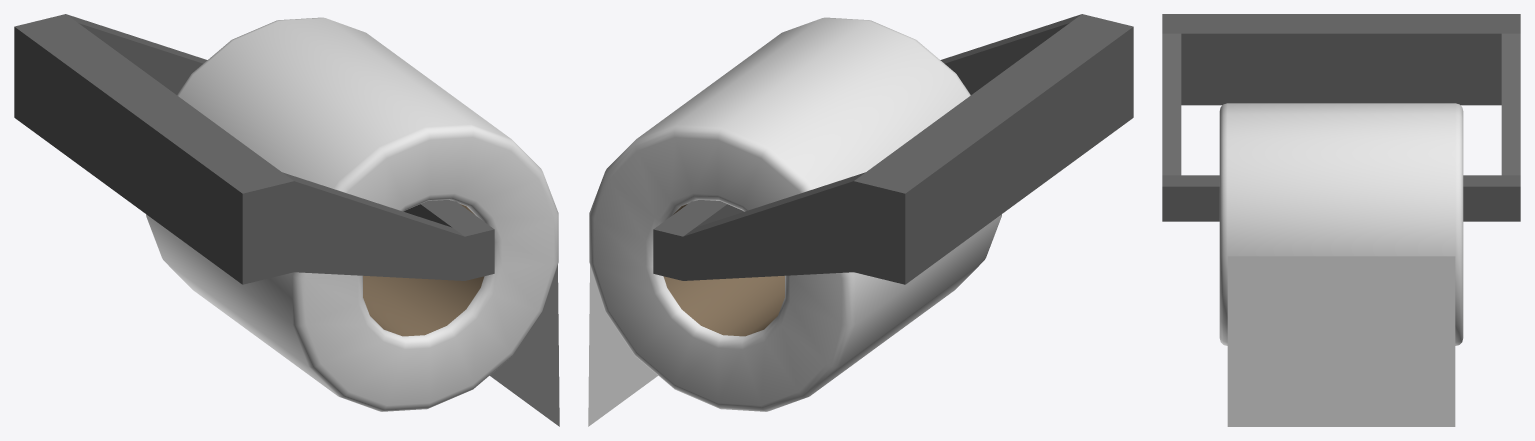
File: toiletpaper.fbx
The picture shows the model from 3 angles, left to right: view 1: azimuth 30°, elevation 25°; view 2: azimuth 150°, elevation 25°; view 3: azimuth 270°, elevation 25°; orthographic projection. The views are drawn at different scales.
Parts seen in each view (by area): view 1: Cylinder.008; view 2: Cylinder.008; view 3: Cylinder.008.
Part boxes in pixels (x1=…): Cylinder.008: x1=14, y1=14, x2=559, y2=426; Cylinder.008: x1=588, y1=14, x2=1133, y2=426; Cylinder.008: x1=1162, y1=14, x2=1520, y2=426.
Size of the model in its own units: 69.89 by 65.4 by 77.08.
